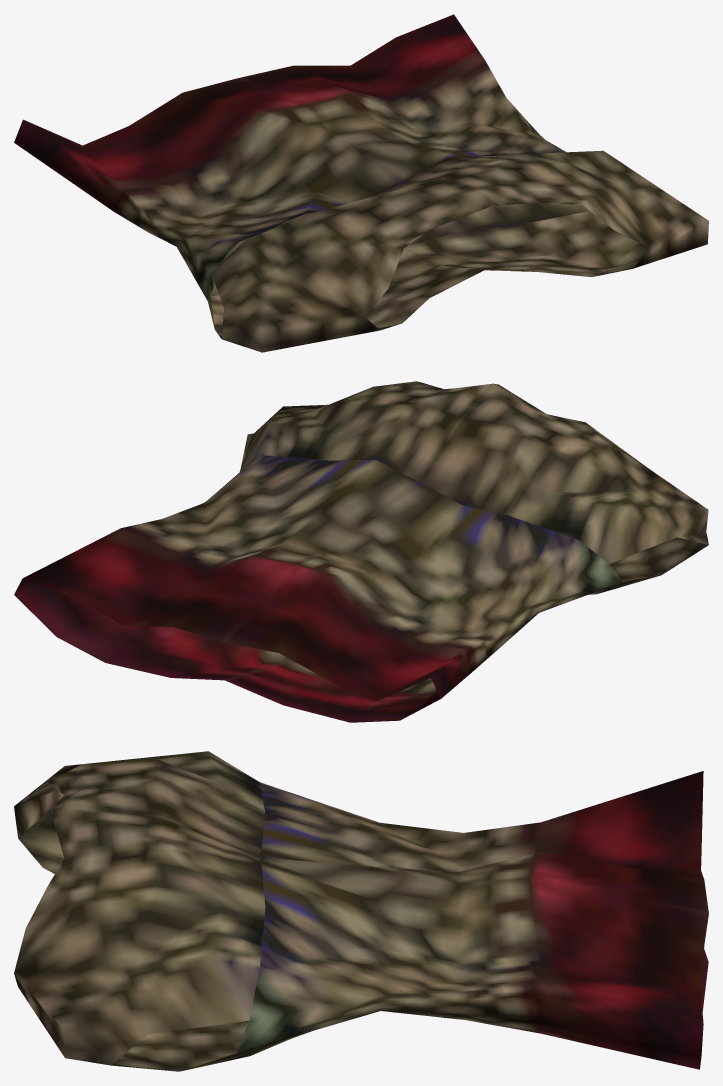
Rendered from INST_MIRK_FIFI_ARMOUR.fbx.
The picture shows the model from 3 angles, top to bottom: view 1: azimuth 30°, elevation 25°; view 2: azimuth 150°, elevation 25°; view 3: azimuth 270°, elevation 25°; orthographic projection. The views are drawn at different scales.
Parts seen in each view (by area): view 1: INST_MIRK_FIFI_ARMOUR; view 2: INST_MIRK_FIFI_ARMOUR; view 3: INST_MIRK_FIFI_ARMOUR.
Part boxes in pixels (left/top/right/bottom): INST_MIRK_FIFI_ARMOUR: left=14, top=14, right=708, bottom=352; INST_MIRK_FIFI_ARMOUR: left=14, top=381, right=708, bottom=722; INST_MIRK_FIFI_ARMOUR: left=14, top=751, right=708, bottom=1071.
Bounding box in the file's own units: 5299 × 1702 × 5422.
Materials: 1 (1 with a texture image).
